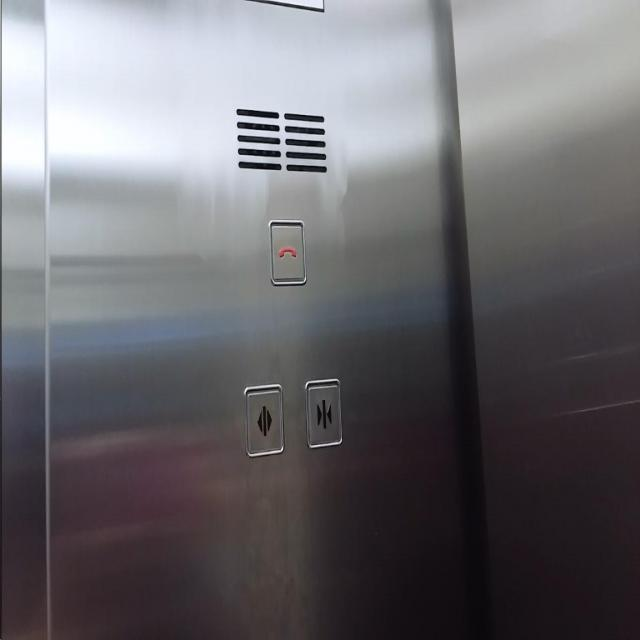call: (265, 213, 311, 289)
close: (303, 373, 344, 452)
open: (243, 380, 285, 462)
